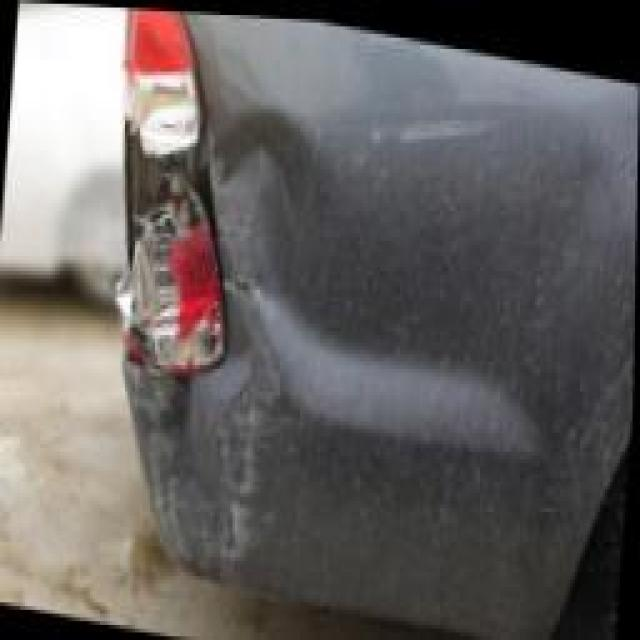Bumper: (170, 11, 628, 640)
Light: (92, 4, 246, 373)
